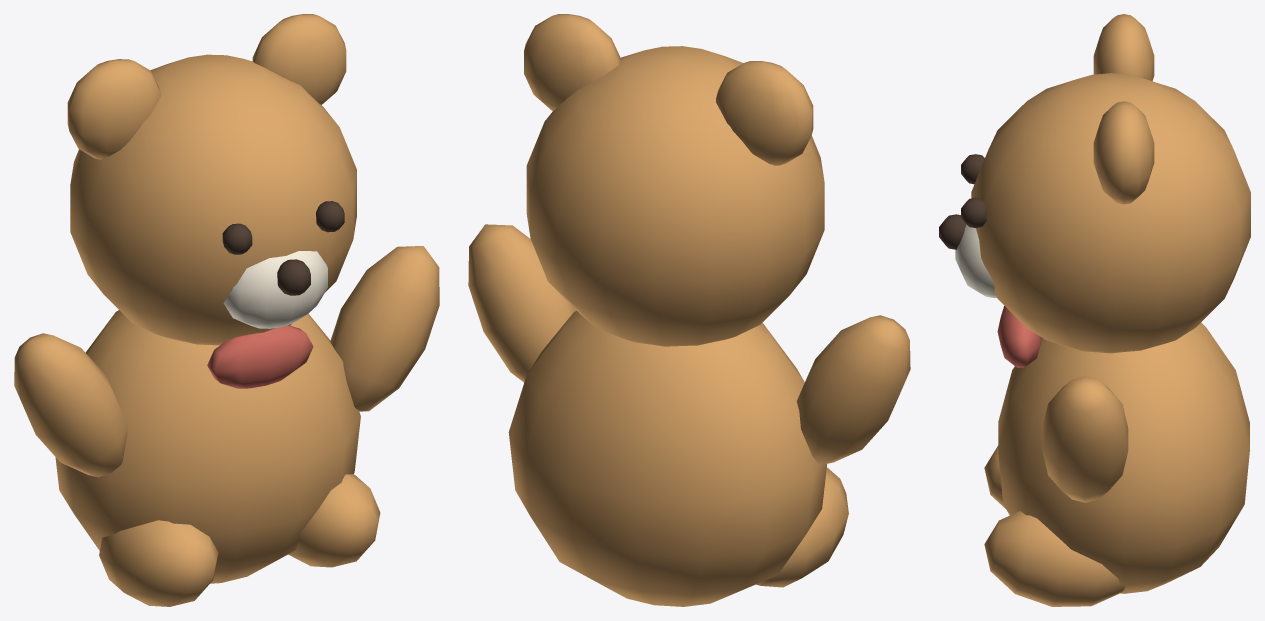
The model's file is plush_bear.glb.
The picture shows the model from 3 angles, left to right: view 1: azimuth 30°, elevation 25°; view 2: azimuth 150°, elevation 25°; view 3: azimuth 270°, elevation 25°; orthographic projection. The views are drawn at different scales.
Parts seen in each view (by area): view 1: plush_bear_mesh; view 2: plush_bear_mesh; view 3: plush_bear_mesh.
Part boxes in pixels (bbox=[...]): plush_bear_mesh: bbox=[14, 14, 439, 606]; plush_bear_mesh: bbox=[468, 14, 910, 606]; plush_bear_mesh: bbox=[939, 14, 1250, 606].
Bounding box in the file's own units: 0.3609 × 0.44 × 0.2416.
